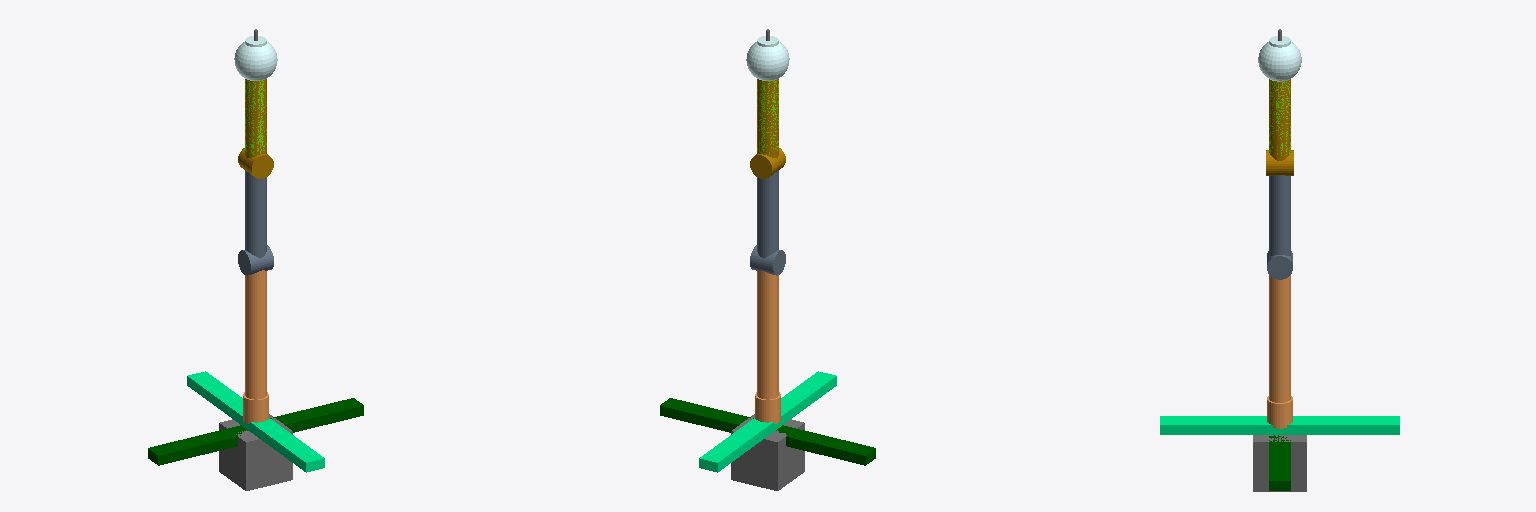
The robot description file, URDF, robot "test_robot":
<?xml version="1.0" ?>
<robot name="test_robot">
    <link name="base_link">
        <inertial>
            <mass value="1.0"/>
            <inertia ixx="0.010416666666666666" iyy="0.010416666666666666" izz="0.010416666666666666" ixy="0.0" ixz="0.0" iyz="0.0"/>
            <origin xyz="0 0 0" rpy="0 0 0"/>
        </inertial>
        <visual>
            <origin xyz="0 0 0" rpy="0 0 0"/>
            <geometry>
                <box size="0.25 0.25 0.25"/>
            </geometry>
            <material name="gray">
                <color rgba="0.5 0.5 0.5 1"/>
            </material>
        </visual>
    </link>
    <joint name="joint0_fixed" type="fixed">
        <parent link="base_link"/>
        <child link="link0_fixed"/>
        <origin xyz="0 0 0.125" rpy="0 0 0"/>
    </joint>
    <link name="link0_fixed">
        <inertial>
            <mass value="1.0"/>
            <inertia ixx="0.10166666666666668" iyy="0.10166666666666668" izz="0.10166666666666668" ixy="0.0" ixz="0.0" iyz="0.0"/>
            <origin xyz="0 0 -0.025" rpy="0 0 0"/>
        </inertial>
        <visual>
            <origin xyz="0 0 -0.025" rpy="0 0 0"/>
            <geometry>
                <box size="1.1 0.1 0.05"/>
            </geometry>
            <material name="darkgreen">
                <color rgba="0.0 0.39215686274509803 0.0 1.0"/>
            </material>
        </visual>
        <collision>
            <origin xyz="0 0 -0.025" rpy="0 0 0"/>
            <geometry>
                <box size="1.1 0.1 0.05"/>
            </geometry>
        </collision>
    </link>
    <joint name="joint0" type="prismatic">
        <parent link="link0_fixed"/>
        <child link="link0"/>
        <origin xyz="0 0 0" rpy="0 0 0"/>
        <axis xyz="1 0 0"/>
        <limit lower="-0.5" upper="0.5" effort="10" velocity="1"/>
    </joint>
    <link name="link0">
        <inertial>
            <mass value="1.0"/>
            <inertia ixx="0.0008333333333333335" iyy="0.0008333333333333335" izz="0.0012500000000000002" ixy="0.0" ixz="0.0" iyz="0.0"/>
            <origin xyz="0 0 0.025" rpy="0 0 0"/>
        </inertial>
        <visual>
            <origin xyz="0 0 0.025" rpy="0 0 0"/>
            <geometry>
                <cylinder length="0.05" radius="0.05"/>
            </geometry>
            <material name="darkgreen">
                <color rgba="0.0 0.39215686274509803 0.0 1.0"/>
            </material>
        </visual>
        <collision>
            <origin xyz="0 0 0.025" rpy="0 0 0"/>
            <geometry>
                <cylinder length="0.05" radius="0.05"/>
            </geometry>
        </collision>
    </link>
    <joint name="joint1_fixed" type="fixed">
        <parent link="link0"/>
        <child link="link1_fixed"/>
        <origin xyz="0 0 0.05" rpy="0 0 0"/>
    </joint>
    <link name="link1_fixed">
        <inertial>
            <mass value="1.0"/>
            <inertia ixx="0.10166666666666668" iyy="0.10166666666666668" izz="0.10166666666666668" ixy="0.0" ixz="0.0" iyz="0.0"/>
            <origin xyz="0 0 -0.025" rpy="0 0 0"/>
        </inertial>
        <visual>
            <origin xyz="0 0 -0.025" rpy="0 0 0"/>
            <geometry>
                <box size="0.1 1.1 0.05"/>
            </geometry>
            <material name="mediumspringgreen">
                <color rgba="0.0 0.9803921568627451 0.6039215686274509 1.0"/>
            </material>
        </visual>
        <collision>
            <origin xyz="0 0 -0.025" rpy="0 0 0"/>
            <geometry>
                <box size="0.1 1.1 0.05"/>
            </geometry>
        </collision>
    </link>
    <joint name="joint1" type="prismatic">
        <parent link="link1_fixed"/>
        <child link="link1"/>
        <origin xyz="0 0 0" rpy="0 0 0"/>
        <axis xyz="0 1 0"/>
        <limit lower="-0.5" upper="0.5" effort="10" velocity="1"/>
    </joint>
    <link name="link1">
        <inertial>
            <mass value="1.0"/>
            <inertia ixx="0.0008333333333333335" iyy="0.0008333333333333335" izz="0.0012500000000000002" ixy="0.0" ixz="0.0" iyz="0.0"/>
            <origin xyz="0 0 0.025" rpy="0 0 0"/>
        </inertial>
        <visual>
            <origin xyz="0 0 0.025" rpy="0 0 0"/>
            <geometry>
                <cylinder length="0.05" radius="0.05"/>
            </geometry>
            <material name="mediumspringgreen">
                <color rgba="0.0 0.9803921568627451 0.6039215686274509 1.0"/>
            </material>
        </visual>
        <collision>
            <origin xyz="0 0 0.025" rpy="0 0 0"/>
            <geometry>
                <cylinder length="0.05" radius="0.05"/>
            </geometry>
        </collision>
    </link>
    <joint name="joint_viz2" type="fixed">
        <parent link="link1"/>
        <child link="joint_viz_link2"/>
        <origin xyz="0 0 0.05" rpy="0 0 0"/>
    </joint>
    <link name="joint_viz_link2">
        <inertial>
            <mass value="0.0"/>
            <inertia ixx="0.0" iyy="0.0" izz="0.0" ixy="0.0" ixz="0.0" iyz="0.0"/>
            <origin xyz="0 0 0" rpy="0 0 0"/>
        </inertial>
        <visual>
            <origin xyz="0 0 0" rpy="0 0 0"/>
            <geometry>
                <cylinder length="0.125" radius="0.06"/>
            </geometry>
            <material name="sandybrown">
                <color rgba="0.9568627450980393 0.6431372549019608 0.3764705882352941 1.0"/>
            </material>
        </visual>
    </link>
    <joint name="joint2" type="revolute">
        <parent link="link1"/>
        <child link="link2"/>
        <origin xyz="0 0 0.05" rpy="0 0 0"/>
        <axis xyz="0 0 1"/>
        <limit lower="-3.14" upper="3.14" effort="10" velocity="1"/>
    </joint>
    <link name="link2">
        <inertial>
            <mass value="1.0"/>
            <inertia ixx="0.047499999999999994" iyy="0.047499999999999994" izz="0.0012500000000000002" ixy="0.0" ixz="0.0" iyz="0.0"/>
            <origin xyz="0 0 0.375" rpy="0 0 0"/>
        </inertial>
        <visual>
            <origin xyz="0 0 0.375" rpy="0 0 0"/>
            <geometry>
                <cylinder length="0.75" radius="0.05"/>
            </geometry>
            <material name="sandybrown">
                <color rgba="0.9568627450980393 0.6431372549019608 0.3764705882352941 1.0"/>
            </material>
        </visual>
        <collision>
            <origin xyz="0 0 0.375" rpy="0 0 0"/>
            <geometry>
                <cylinder length="0.75" radius="0.05"/>
            </geometry>
        </collision>
    </link>
    <joint name="joint_viz3" type="fixed">
        <parent link="link2"/>
        <child link="joint_viz_link3"/>
        <origin xyz="0 0 0.75" rpy="0 0 0"/>
    </joint>
    <link name="joint_viz_link3">
        <inertial>
            <mass value="0.0"/>
            <inertia ixx="0.0" iyy="0.0" izz="0.0" ixy="0.0" ixz="0.0" iyz="0.0"/>
            <origin xyz="0 0 0" rpy="0 1.57 0"/>
        </inertial>
        <visual>
            <origin xyz="0 0 0" rpy="0 1.57 0"/>
            <geometry>
                <cylinder length="0.125" radius="0.06"/>
            </geometry>
            <material name="slategrey">
                <color rgba="0.4392156862745098 0.5019607843137255 0.5647058823529412 1.0"/>
            </material>
        </visual>
    </link>
    <joint name="joint3" type="revolute">
        <parent link="link2"/>
        <child link="link3"/>
        <origin xyz="0 0 0.75" rpy="0 0 0"/>
        <axis xyz="1 0 0"/>
        <limit lower="-3.14" upper="3.14" effort="10" velocity="1"/>
    </joint>
    <link name="link3">
        <inertial>
            <mass value="1.0"/>
            <inertia ixx="0.021458333333333333" iyy="0.021458333333333333" izz="0.0012500000000000002" ixy="0.0" ixz="0.0" iyz="0.0"/>
            <origin xyz="0 0 0.25" rpy="0 0 0"/>
        </inertial>
        <visual>
            <origin xyz="0 0 0.25" rpy="0 0 0"/>
            <geometry>
                <cylinder length="0.5" radius="0.05"/>
            </geometry>
            <material name="slategrey">
                <color rgba="0.4392156862745098 0.5019607843137255 0.5647058823529412 1.0"/>
            </material>
        </visual>
        <collision>
            <origin xyz="0 0 0.25" rpy="0 0 0"/>
            <geometry>
                <cylinder length="0.5" radius="0.05"/>
            </geometry>
        </collision>
    </link>
    <joint name="joint_viz4" type="fixed">
        <parent link="link3"/>
        <child link="joint_viz_link4"/>
        <origin xyz="0 0 0.5" rpy="0 0 0"/>
    </joint>
    <link name="joint_viz_link4">
        <inertial>
            <mass value="0.0"/>
            <inertia ixx="0.0" iyy="0.0" izz="0.0" ixy="0.0" ixz="0.0" iyz="0.0"/>
            <origin xyz="0 0 0" rpy="1.57 0 0"/>
        </inertial>
        <visual>
            <origin xyz="0 0 0" rpy="1.57 0 0"/>
            <geometry>
                <cylinder length="0.125" radius="0.06"/>
            </geometry>
            <material name="darkgoldenrod">
                <color rgba="0.7215686274509804 0.5254901960784314 0.043137254901960784 1.0"/>
            </material>
        </visual>
    </link>
    <joint name="joint4" type="revolute">
        <parent link="link3"/>
        <child link="link4"/>
        <origin xyz="0 0 0.5" rpy="0 0 0"/>
        <axis xyz="0 1 0"/>
        <limit lower="-3.14" upper="3.14" effort="10" velocity="1"/>
    </joint>
    <link name="link4">
        <inertial>
            <mass value="1.0"/>
            <inertia ixx="0.021458333333333333" iyy="0.021458333333333333" izz="0.0012500000000000002" ixy="0.0" ixz="0.0" iyz="0.0"/>
            <origin xyz="0 0 0.25" rpy="0 0 0"/>
        </inertial>
        <visual>
            <origin xyz="0 0 0.25" rpy="0 0 0"/>
            <geometry>
                <cylinder length="0.5" radius="0.05"/>
            </geometry>
            <material name="darkgoldenrod">
                <color rgba="0.7215686274509804 0.5254901960784314 0.043137254901960784 1.0"/>
            </material>
        </visual>
        <collision>
            <origin xyz="0 0 0.25" rpy="0 0 0"/>
            <geometry>
                <cylinder length="0.5" radius="0.05"/>
            </geometry>
        </collision>
    </link>
    <joint name="joint5" type="prismatic">
        <parent link="link4"/>
        <child link="link5"/>
        <origin xyz="0 0 0.061" rpy="0 0 0"/>
        <axis xyz="0 0 1"/>
        <limit lower="0" upper="0.45" effort="10" velocity="1"/>
    </joint>
    <link name="link5">
        <inertial>
            <mass value="1.0"/>
            <inertia ixx="0.018335083333333335" iyy="0.018335083333333335" izz="0.0012500000000000002" ixy="0.0" ixz="0.0" iyz="0.0"/>
            <origin xyz="0 0 0.2305" rpy="0 0 0"/>
        </inertial>
        <visual>
            <origin xyz="0 0 0.2305" rpy="0 0 0"/>
            <geometry>
                <cylinder length="0.461" radius="0.05"/>
            </geometry>
            <material name="chartreuse">
                <color rgba="0.4980392156862745 1.0 0.0 1.0"/>
            </material>
        </visual>
        <collision>
            <origin xyz="0 0 0.2305" rpy="0 0 0"/>
            <geometry>
                <cylinder length="0.461" radius="0.05"/>
            </geometry>
        </collision>
    </link>
    <joint name="sph_joint_x_1" type="revolute">
        <parent link="link5"/>
        <child link="sph_link_x_1"/>
        <origin xyz="0 0 0.461" rpy="0 0 0"/>
        <axis xyz="1 0 0"/>
        <limit lower="-3.14" upper="3.14" effort="10" velocity="1"/>
    </joint>
    <link name="sph_link_x_1">
        <inertial>
            <mass value="0.001"/>
            <inertia ixx="4.000000000000001e-06" iyy="4.000000000000001e-06" izz="4.000000000000001e-06" ixy="0.0" ixz="0.0" iyz="0.0"/>
            <origin xyz="0 0 0" rpy="0 0 0"/>
        </inertial>
        <visual>
            <origin xyz="0 0 0" rpy="0 0 0"/>
            <geometry>
                <sphere radius="0.1"/>
            </geometry>
            <material name="lightcyan">
                <color rgba="0.8784313725490196 1.0 1.0 1.0"/>
            </material>
        </visual>
    </link>
    <joint name="sph_joint_y_1" type="revolute">
        <parent link="sph_link_x_1"/>
        <child link="sph_link_y_1"/>
        <origin xyz="0 0 0" rpy="0 0 0"/>
        <axis xyz="0 1 0"/>
        <limit lower="-3.14" upper="3.14" effort="10" velocity="1"/>
    </joint>
    <link name="sph_link_y_1">
        <inertial>
            <mass value="0.001"/>
            <inertia ixx="4.000000000000001e-06" iyy="4.000000000000001e-06" izz="4.000000000000001e-06" ixy="0.0" ixz="0.0" iyz="0.0"/>
            <origin xyz="0 0 0" rpy="0 0 0"/>
        </inertial>
        <visual>
            <origin xyz="0 0 0" rpy="0 0 0"/>
            <geometry>
                <sphere radius="0.1"/>
            </geometry>
            <material name="lightcyan">
                <color rgba="0.8784313725490196 1.0 1.0 1.0"/>
            </material>
        </visual>
    </link>
    <joint name="sph_joint_z_1" type="revolute">
        <parent link="sph_link_y_1"/>
        <child link="sph_link_z_1"/>
        <origin xyz="0 0 0" rpy="0 0 0"/>
        <axis xyz="0 0 1"/>
        <limit lower="-3.14" upper="3.14" effort="10" velocity="1"/>
    </joint>
    <link name="sph_link_z_1">
        <inertial>
            <mass value="0.001"/>
            <inertia ixx="4.000000000000001e-06" iyy="4.000000000000001e-06" izz="4.000000000000001e-06" ixy="0.0" ixz="0.0" iyz="0.0"/>
            <origin xyz="0 0 0" rpy="0 0 0"/>
        </inertial>
        <visual>
            <origin xyz="0 0 0" rpy="0 0 0"/>
            <geometry>
                <sphere radius="0.1"/>
            </geometry>
            <material name="lightcyan">
                <color rgba="0.8784313725490196 1.0 1.0 1.0"/>
            </material>
        </visual>
    </link>
    <joint name="joint6" type="fixed">
        <parent link="sph_link_z_1"/>
        <child link="link6"/>
        <origin xyz="0 0 0" rpy="0 0 0"/>
    </joint>
    <link name="link6">
        <inertial>
            <mass value="1.0"/>
            <inertia ixx="0.0014583333333333334" iyy="0.0014583333333333334" izz="0.0012500000000000002" ixy="0.0" ixz="0.0" iyz="0.0"/>
            <origin xyz="0 0 0.05" rpy="0 0 0"/>
        </inertial>
        <visual>
            <origin xyz="0 0 0.05" rpy="0 0 0"/>
            <geometry>
                <cylinder length="0.1" radius="0.05"/>
            </geometry>
            <material name="lightcyan">
                <color rgba="0.8784313725490196 1.0 1.0 1.0"/>
            </material>
        </visual>
        <collision>
            <origin xyz="0 0 0.05" rpy="0 0 0"/>
            <geometry>
                <cylinder length="0.1" radius="0.05"/>
            </geometry>
        </collision>
    </link>
    <joint name="probe_joint" type="fixed">
        <parent link="link6"/>
        <child link="probe_link"/>
        <origin xyz="0 0 0.1" rpy="0 0 0"/>
    </joint>
    <link name="probe_link">
        <inertial>
            <mass value="0.0"/>
            <inertia ixx="0.0" iyy="0.0" izz="0.0" ixy="0.0" ixz="0.0" iyz="0.0"/>
            <origin xyz="0 0 0" rpy="0 0 0"/>
        </inertial>
        <visual>
            <origin xyz="0 0 0" rpy="0 0 0"/>
            <geometry>
                <cylinder length="0.1" radius="0.01"/>
            </geometry>
            <material name="gray">
                <color rgba="0.5 0.5 0.5 1"/>
            </material>
        </visual>
    </link>
    <joint name="end_effector_joint" type="fixed">
        <parent link="probe_link"/>
        <child link="end_effector"/>
        <origin xyz="0 0 0.1" rpy="0 0 0"/>
    </joint>
    <link name="end_effector">
        <inertial>
            <mass value="0.0"/>
            <inertia ixx="0.0" iyy="0.0" izz="0.0" ixy="0.0" ixz="0.0" iyz="0.0"/>
            <origin xyz="0 0 0" rpy="0 0 0"/>
        </inertial>
        <visual>
            <origin xyz="0 0 0" rpy="0 0 0"/>
            <geometry>
                <cylinder length="0" radius="0"/>
            </geometry>
            <material name="gray">
                <color rgba="0.5 0.5 0.5 1"/>
            </material>
        </visual>
    </link>
</robot>

--- Render facts (derived) ---
The picture shows the robot from 3 angles, left to right: view 1: azimuth 30°, elevation 25°; view 2: azimuth 150°, elevation 25°; view 3: azimuth 270°, elevation 25°; orthographic projection.
Model test_robot with 18 links and 17 joints (6 revolute, 3 prismatic, 8 fixed), rooted at base_link, posed every joint at zero.
Links seen in each view (by area): view 1: link0_fixed, link1_fixed, base_link, link2, link3, sph_link_x_1, link4, joint_viz_link3, joint_viz_link4, joint_viz_link2; view 2: link0_fixed, link1_fixed, base_link, link2, link3, sph_link_x_1, link4, joint_viz_link3, joint_viz_link4, joint_viz_link2; view 3: link1_fixed, link2, base_link, link3, link4, sph_link_x_1, link0_fixed, joint_viz_link2, joint_viz_link3, joint_viz_link4.
Boxes of the visible links, x1,y1,x2,y2 form: link0_fixed: (148,398,363,465); link1_fixed: (187,371,324,472); base_link: (219,414,292,490); link2: (245,270,266,399); link3: (245,170,266,257); sph_link_x_1: (234,42,277,80); link4: (245,79,266,157); joint_viz_link3: (238,245,273,275); joint_viz_link4: (238,148,273,178); joint_viz_link2: (243,392,268,423); link0_fixed: (660,398,875,465); link1_fixed: (699,371,836,472); base_link: (731,414,804,490); link2: (757,270,778,399); link3: (757,170,778,257); sph_link_x_1: (746,42,789,80); link4: (757,79,778,157); joint_viz_link3: (750,245,785,275); joint_viz_link4: (750,148,785,178); joint_viz_link2: (755,392,780,423); link1_fixed: (1160,416,1399,434); link2: (1269,275,1290,402); base_link: (1253,435,1306,491); link3: (1269,175,1290,255); link4: (1269,79,1290,160); sph_link_x_1: (1258,42,1301,81); link0_fixed: (1269,435,1290,490); joint_viz_link2: (1267,396,1292,428); joint_viz_link3: (1267,251,1292,279); joint_viz_link4: (1266,150,1293,175).
Size in the robot's own frame: 1.1 by 1.1 by 2.32 metres.
Geometry: primitives only (box / cylinder / sphere), no mesh files.